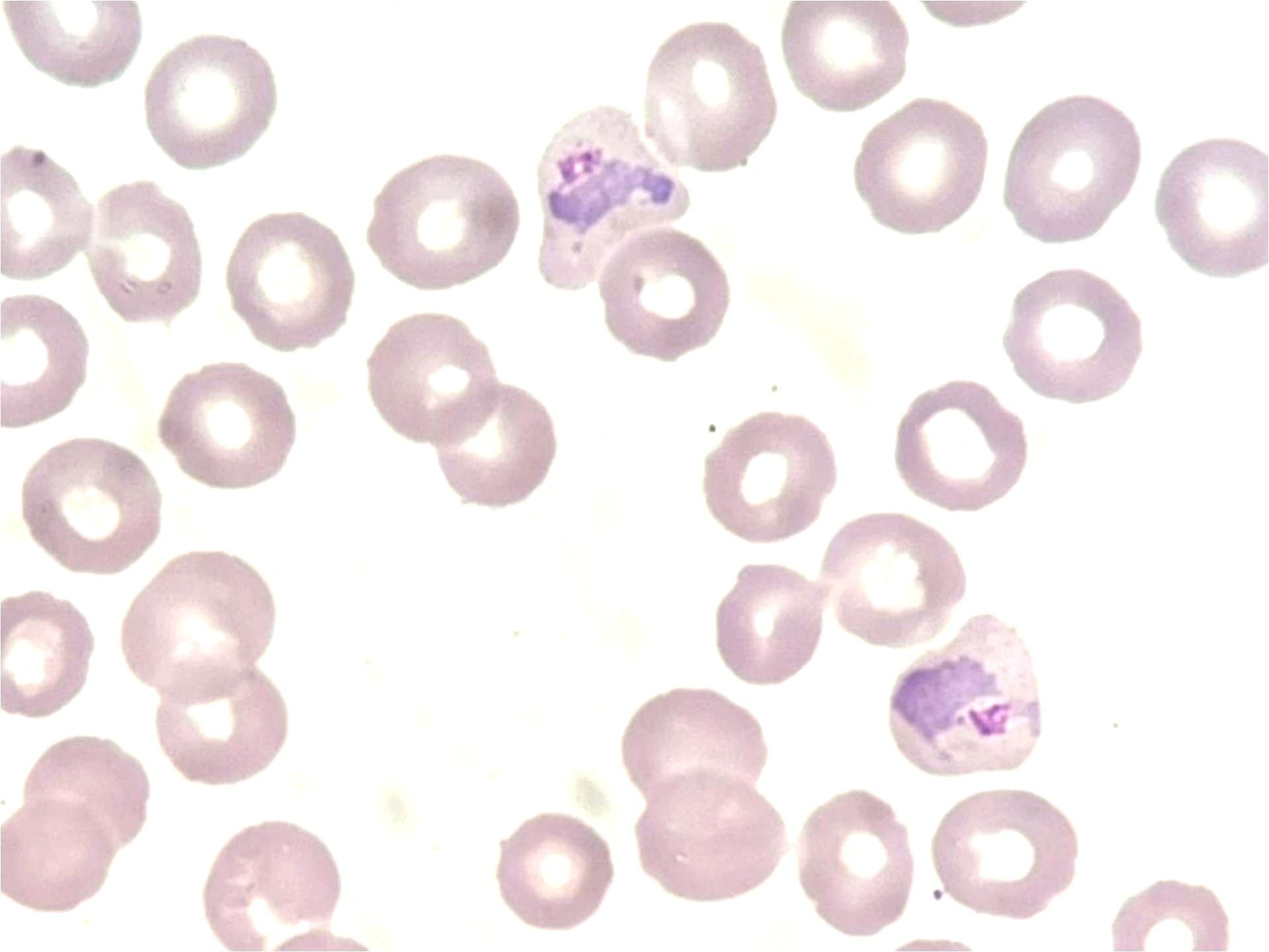Infected: (580, 655, 739, 846), (223, 174, 377, 335)
Uninfected: (992, 253, 1143, 400), (896, 3, 1061, 131), (749, 665, 898, 797), (1106, 376, 1247, 514), (128, 712, 263, 855), (303, 305, 444, 440), (192, 32, 337, 162), (125, 550, 263, 685), (492, 787, 623, 929), (485, 52, 631, 175), (538, 590, 670, 724), (972, 464, 1108, 592), (239, 443, 372, 573), (280, 720, 409, 854), (769, 508, 902, 636), (436, 409, 565, 539), (915, 604, 1041, 737), (354, 16, 475, 154), (1066, 629, 1184, 770), (993, 787, 1120, 915), (1115, 99, 1249, 214), (505, 156, 642, 264), (0, 680, 110, 814), (983, 168, 1114, 278), (712, 446, 833, 565), (656, 19, 773, 136), (443, 268, 553, 389), (361, 842, 482, 951), (1157, 40, 1269, 155), (1177, 674, 1269, 803), (1177, 235, 1269, 358), (1181, 526, 1267, 654), (1128, 867, 1260, 947), (42, 1, 157, 72)
